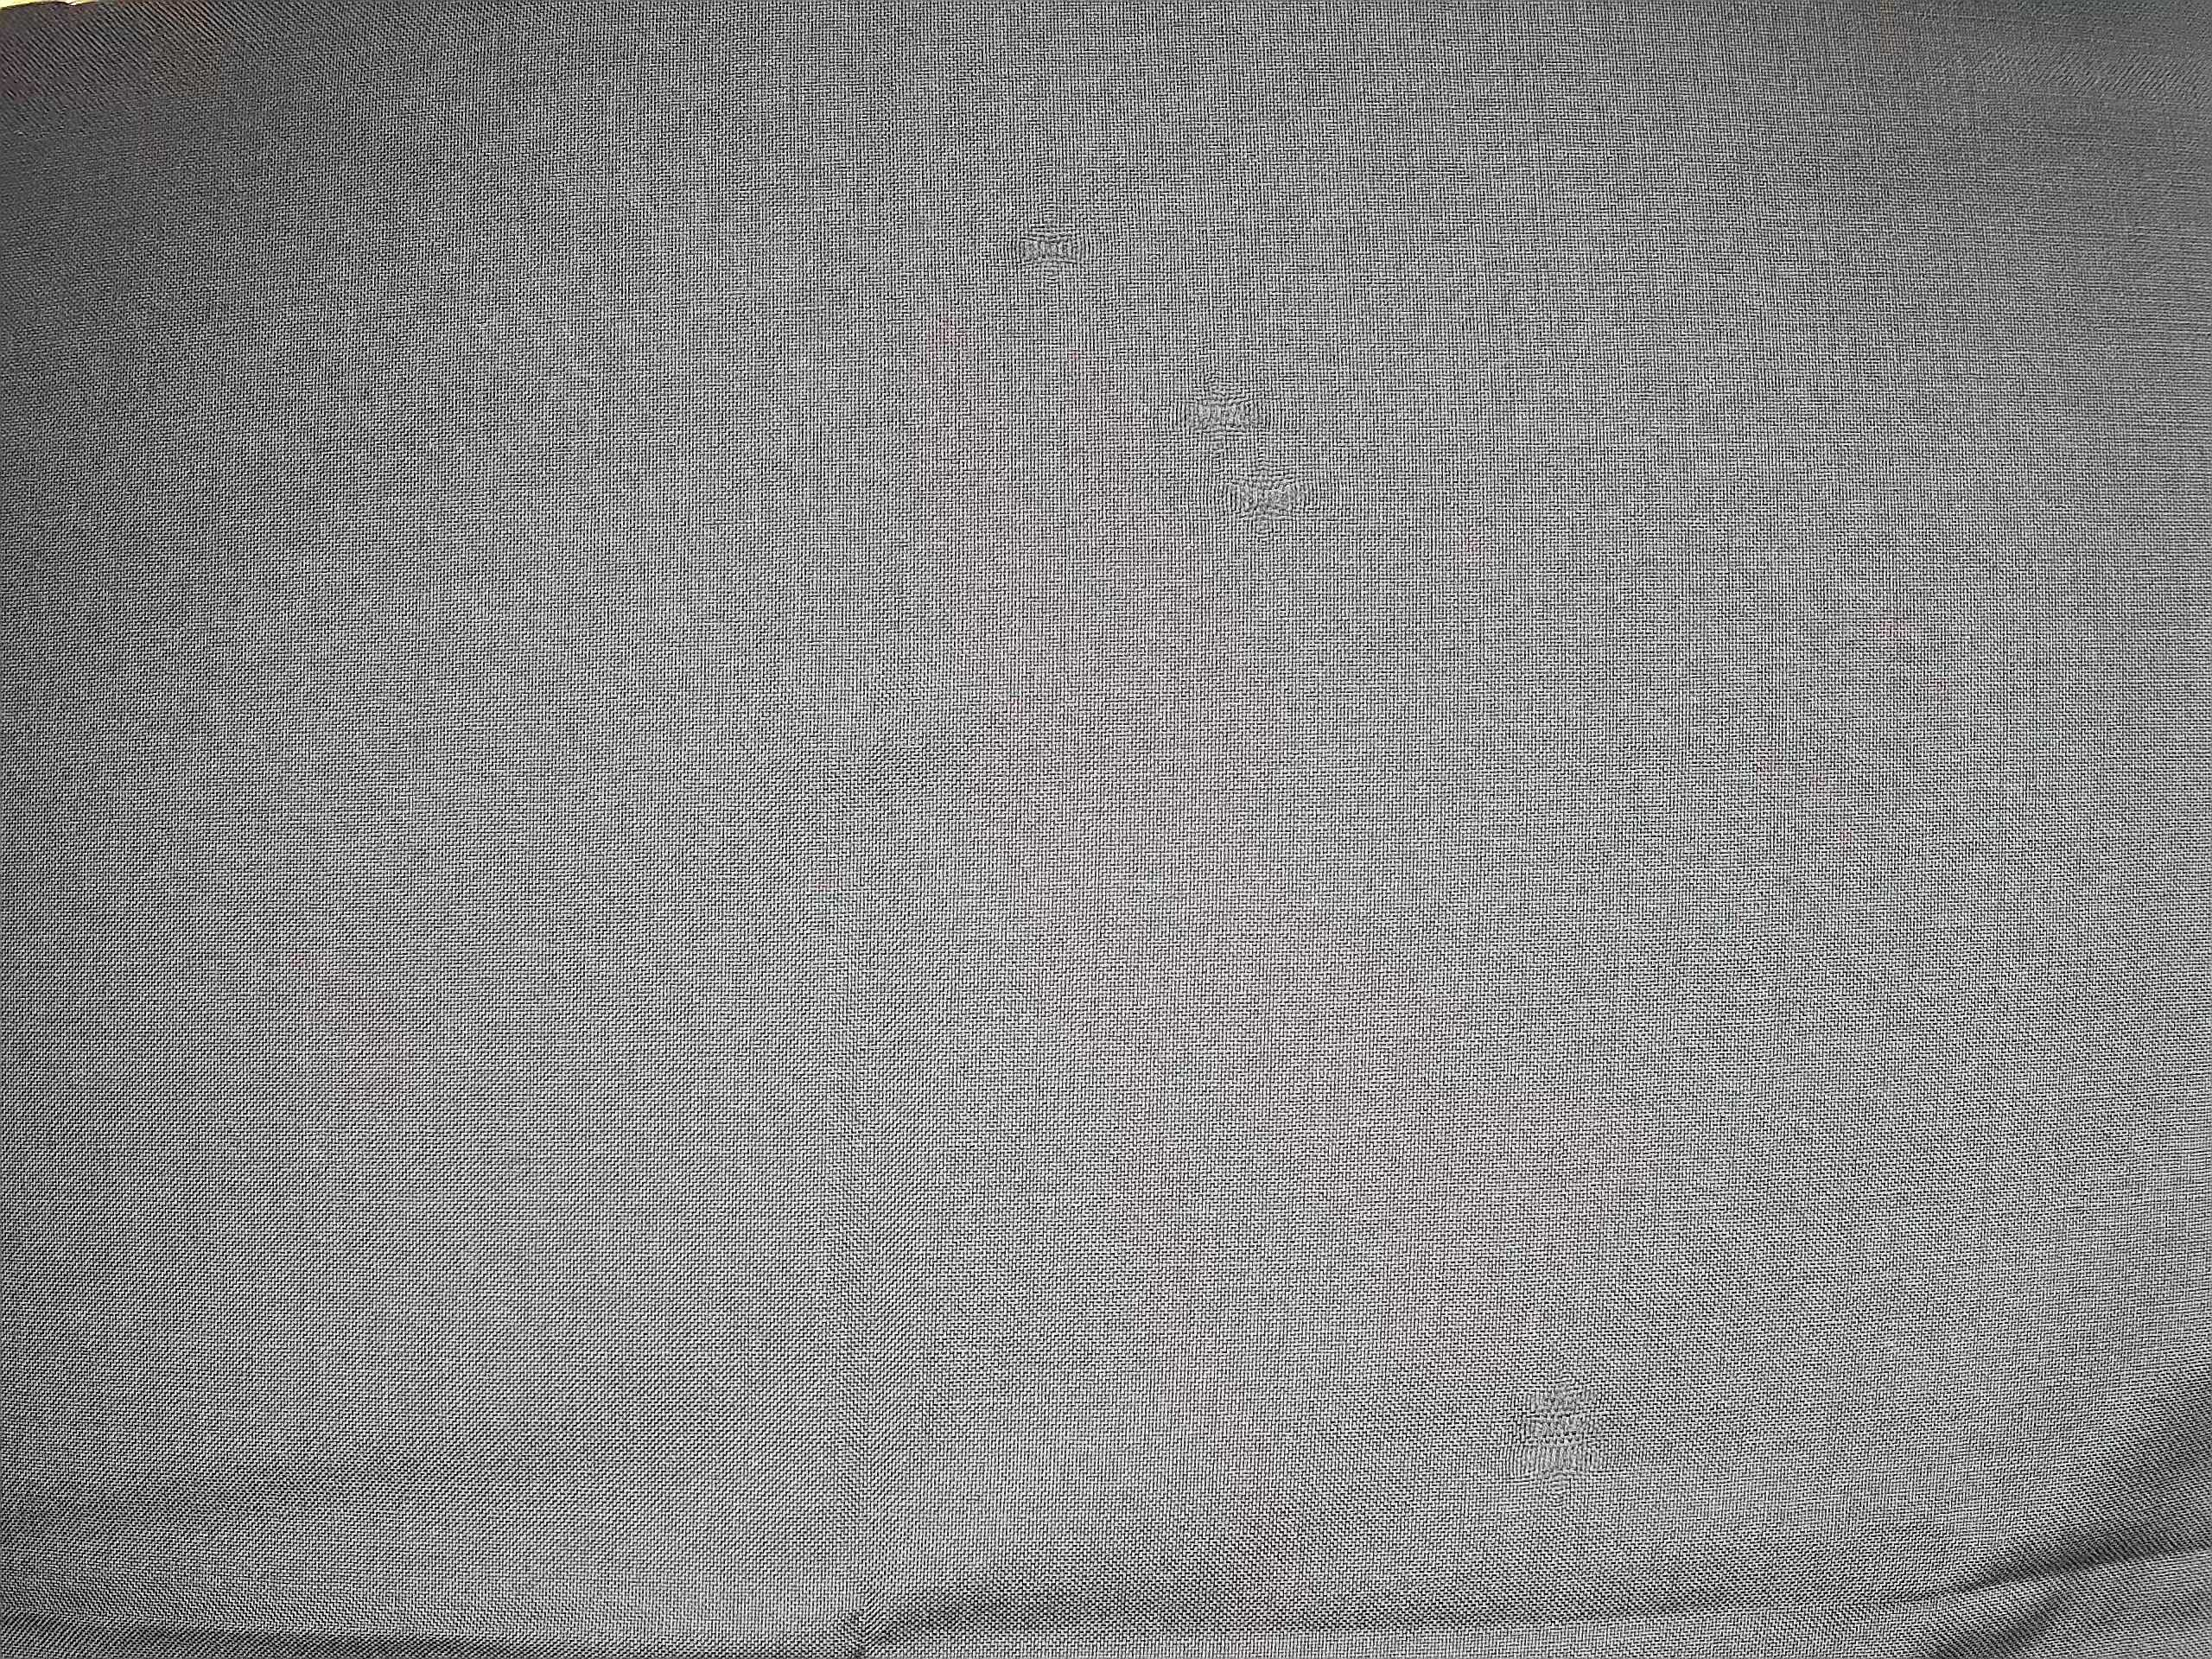knots: (1169, 364, 1341, 556), (1475, 1371, 1644, 1511), (998, 197, 1116, 295)
